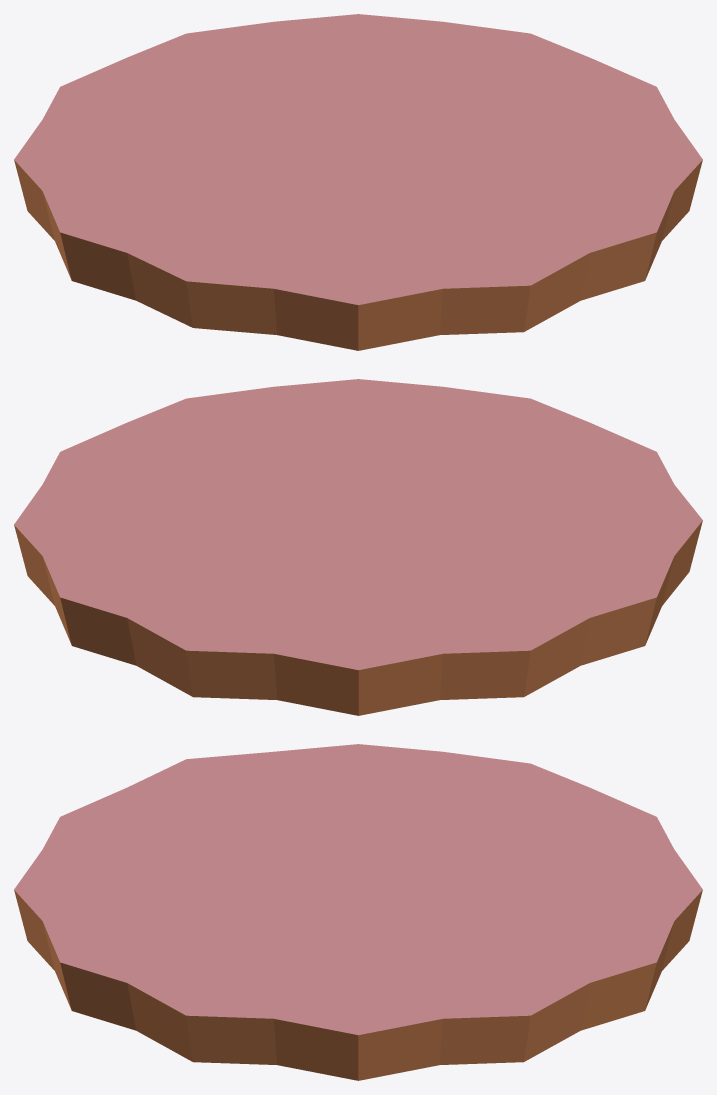
File: Ham.fbx
3 renders of one model, top to bottom at view 1: azimuth 30°, elevation 25°; view 2: azimuth 150°, elevation 25°; view 3: azimuth 270°, elevation 25°, orthographic.
Visible parts, largest first — view 1: Cylinder.004; view 2: Cylinder.004; view 3: Cylinder.004.
Boxes of the visible parts, box(x1,y1,x2,y2) form: Cylinder.004: box(14, 14, 702, 350); Cylinder.004: box(14, 379, 702, 715); Cylinder.004: box(14, 744, 702, 1080).
Size of the model in its own units: 86.37 by 7.72 by 86.37.
